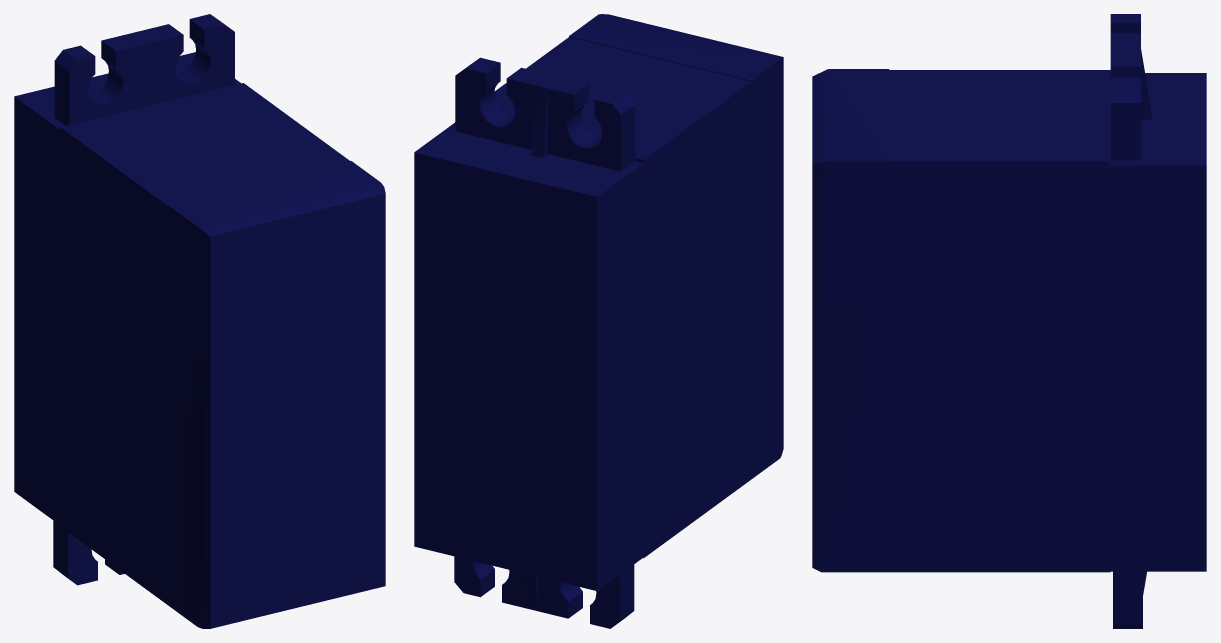
3 renders of one model, left to right at view 1: azimuth 30°, elevation 25°; view 2: azimuth 150°, elevation 25°; view 3: azimuth 270°, elevation 25°, orthographic. The views are drawn at different scales.
Visible parts, largest first — view 1: robot; view 2: robot; view 3: robot.
Part boxes in pixels (x1,y1,x2,y2): robot: [14, 14, 385, 628]; robot: [414, 14, 783, 628]; robot: [812, 14, 1206, 628].
Bounding box in the file's own units: 0.0196 × 0.0354 × 0.0536.
